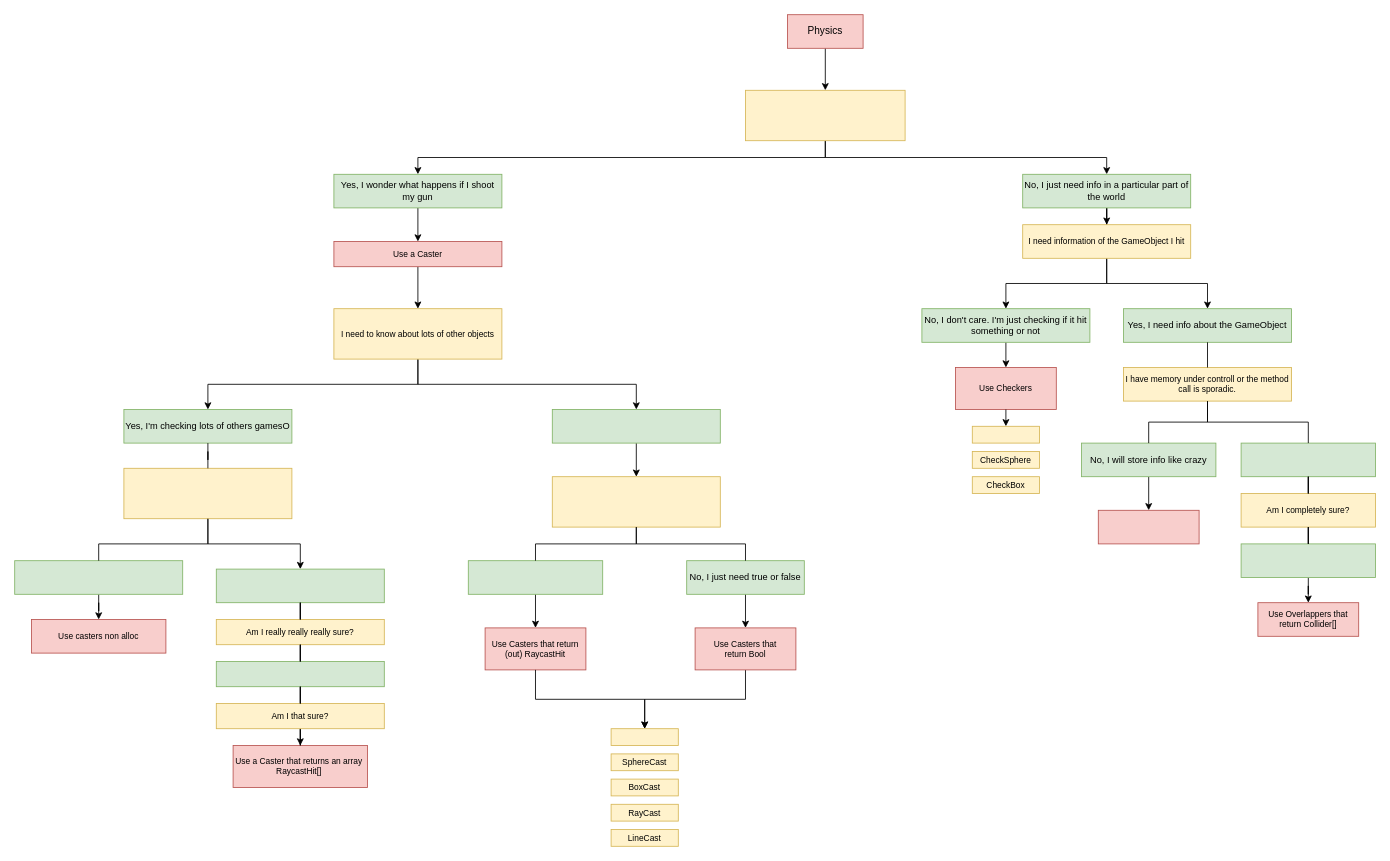
The diagram is 1390 pixels wide and 861 high, and some of its shapes have lost their labels. Here are the shapes that lost their labels. From the top down, the centre of each, then its label:
the point at 825,115: I need to check a future event
the point at 635,426: No, I just need 1
the point at 1005,434: CheckCapsule
the point at 1308,459: Yes, I think I've got it
the point at 207,493: I need all I can chew. I can't miss data
the point at 635,501: I need to know the location of the impact
the point at 1148,526: Use Overlappers NonAlloc
the point at 98,577: No problem. I have an idea of how many objects
the point at 535,577: Yes, I need the exact location
the point at 1308,560: Yeah
the point at 299,585: Yes, I'll pay the price don't care
the point at 299,674: Yes, I mean
the point at 644,737: CapsuleCast
